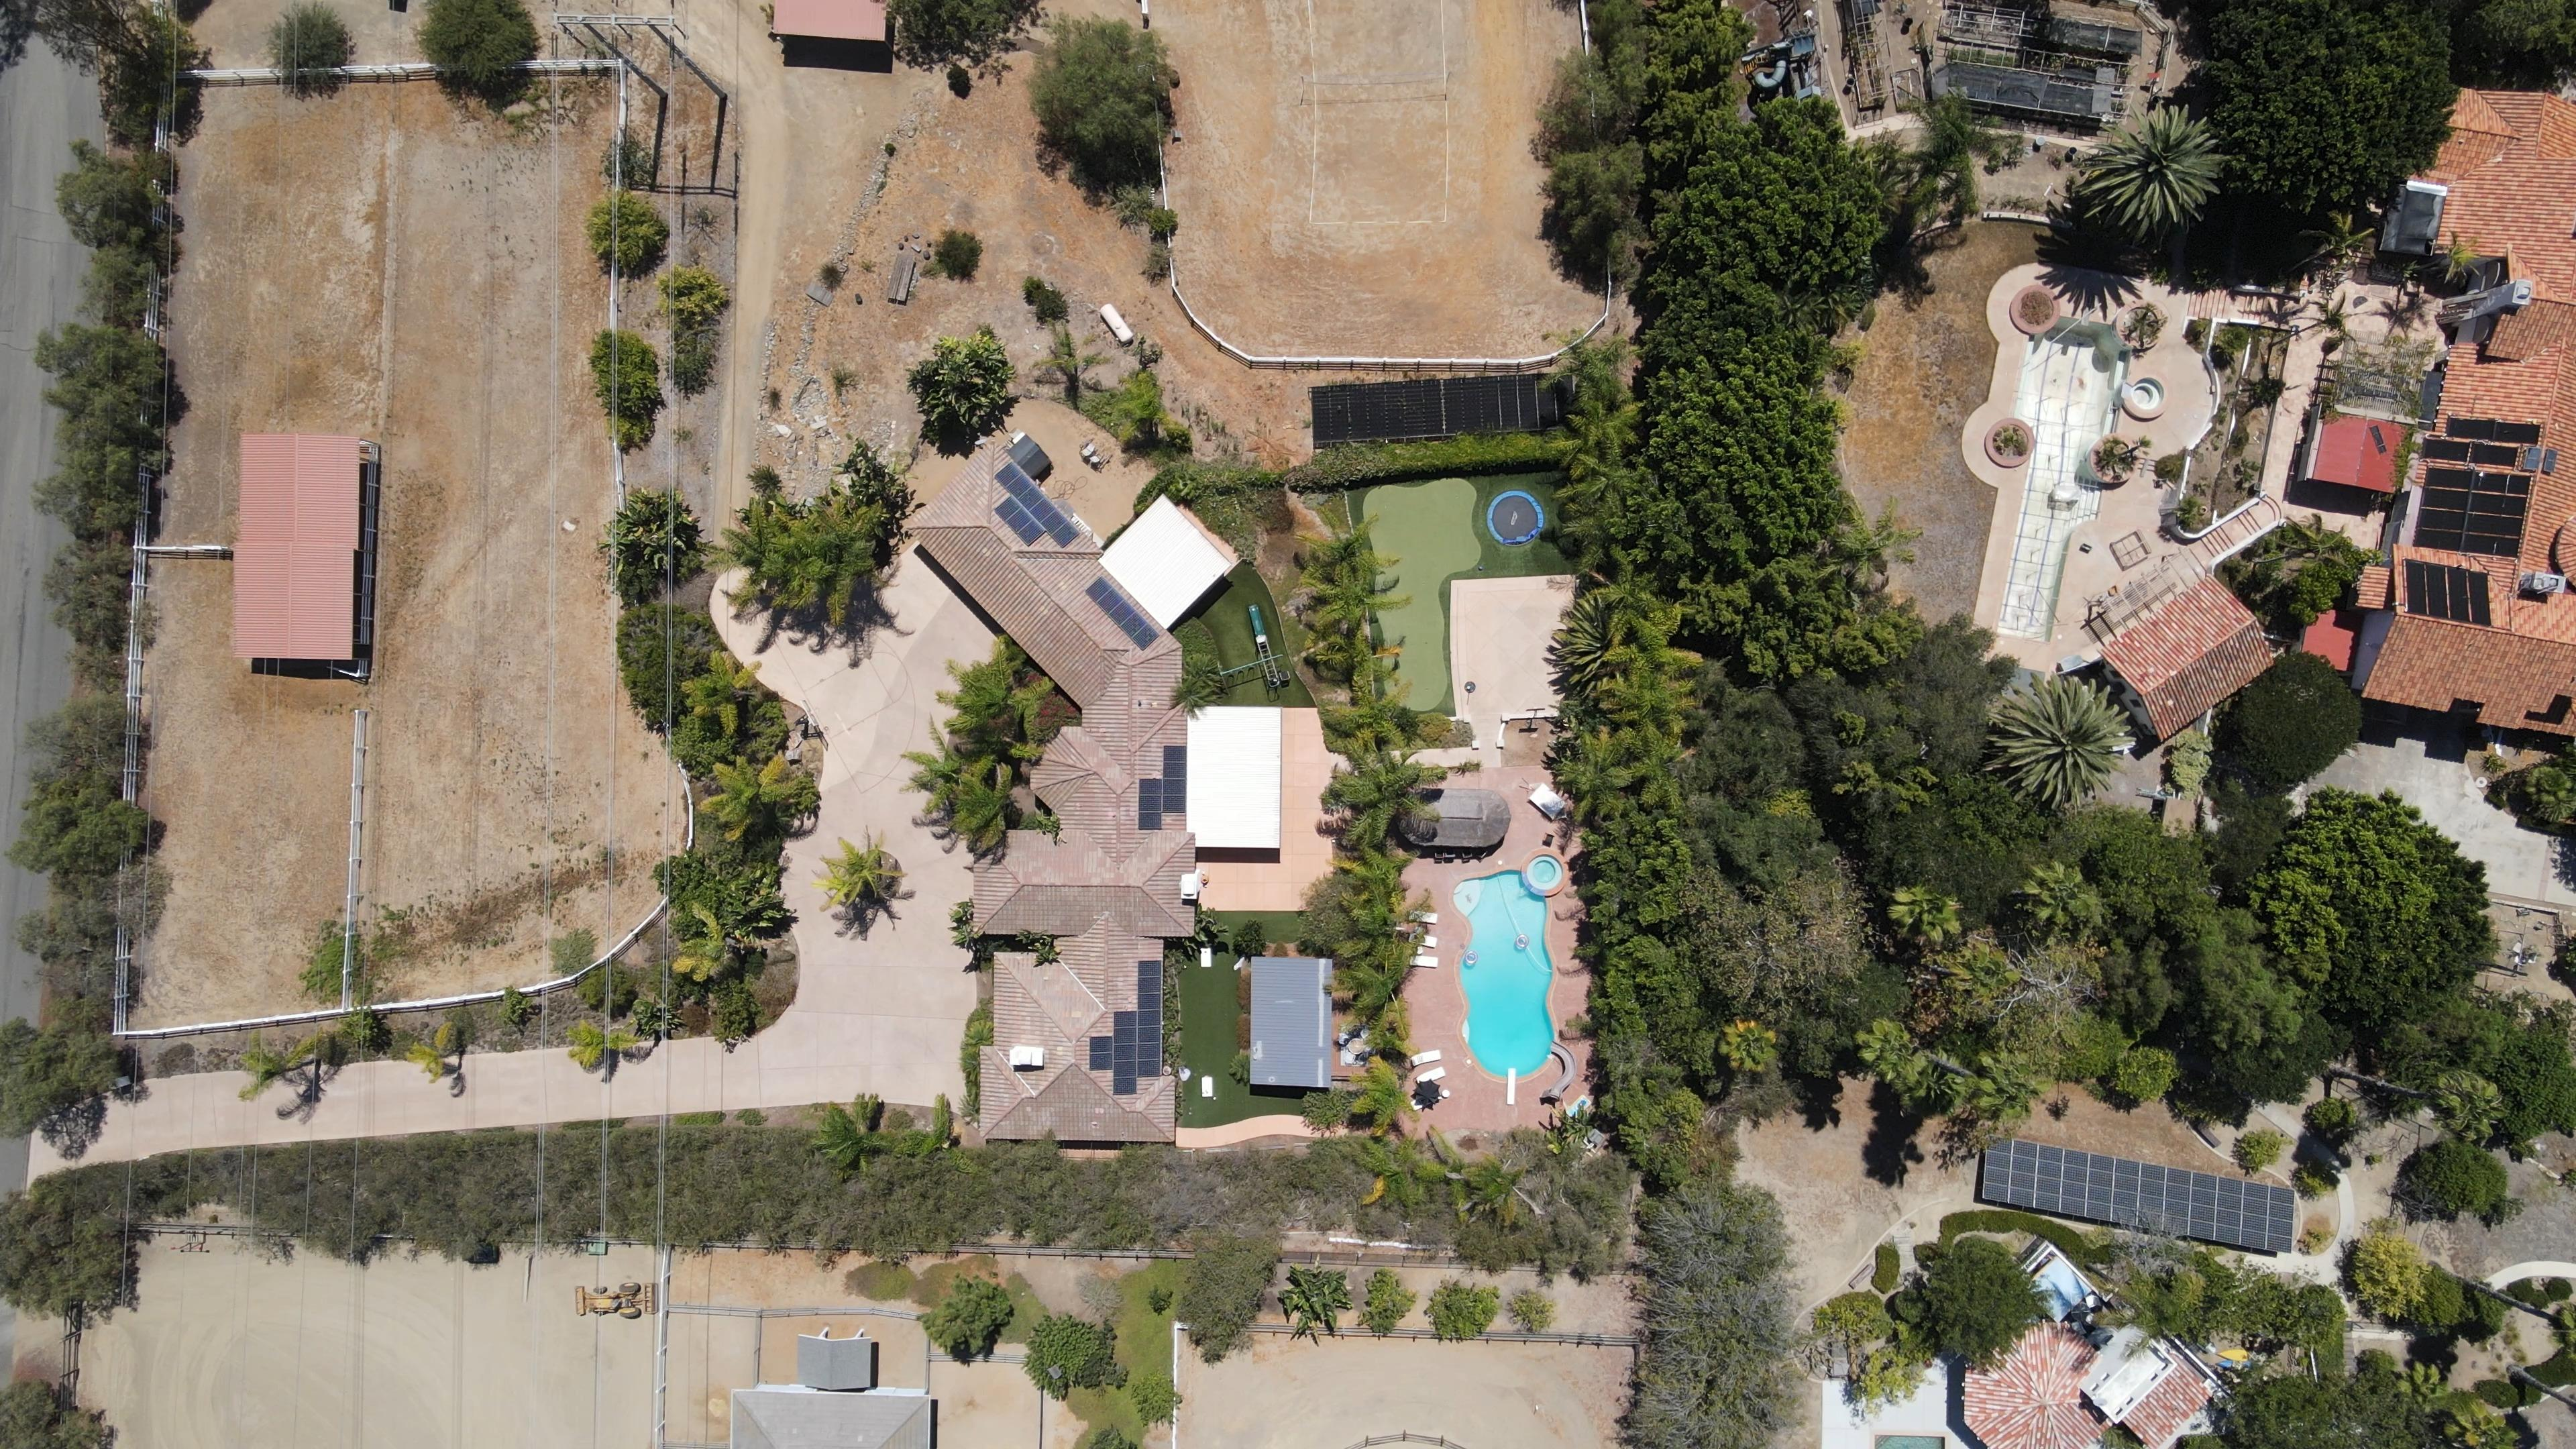panel: (1982, 1132, 2296, 1254), (1311, 372, 1576, 444), (2411, 467, 2532, 557), (1088, 961, 1164, 1093), (2403, 559, 2491, 626), (1085, 575, 1161, 651), (1138, 745, 1187, 828), (2445, 418, 2541, 446), (2420, 439, 2519, 465)
